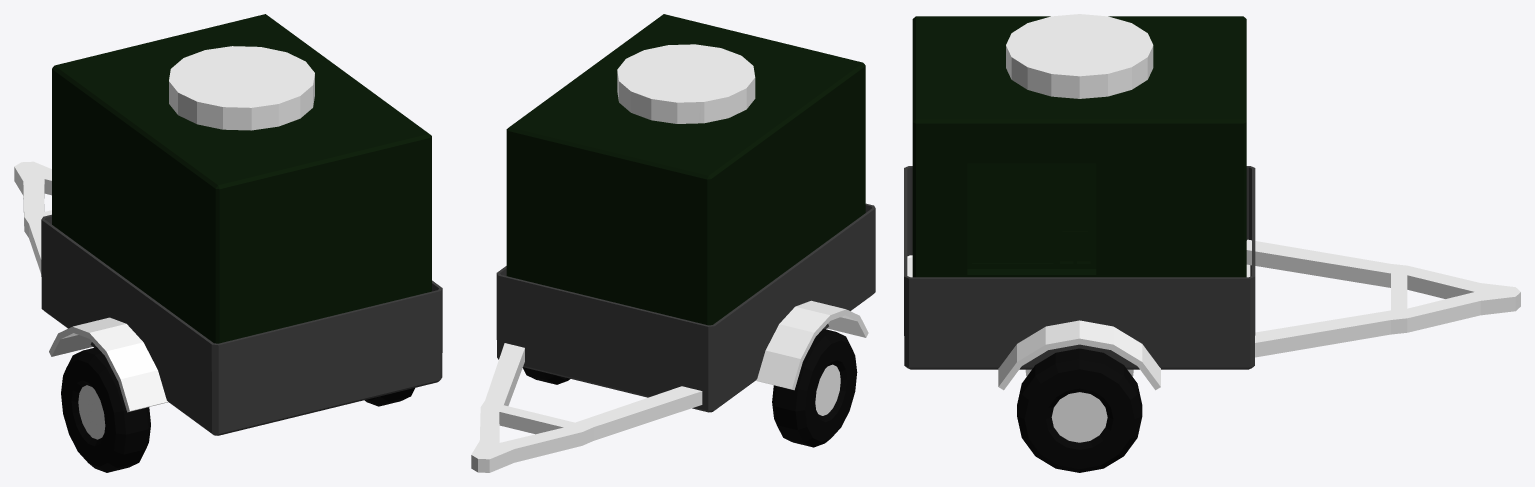
Rendered from RadarBase.obj.
The picture shows the model from 3 angles, left to right: view 1: azimuth 30°, elevation 25°; view 2: azimuth 150°, elevation 25°; view 3: azimuth 270°, elevation 25°; orthographic projection. The views are drawn at different scales.
Visible parts, largest first — view 1: Cube.001; view 2: Cube.001; view 3: Cube.001.
Boxes of the visible parts, box(x1,y1,x2,y2) form: Cube.001: box(14, 14, 442, 472); Cube.001: box(471, 14, 875, 472); Cube.001: box(904, 14, 1520, 472).
Size of the model in its own units: 2.12 by 2.35 by 3.7.
